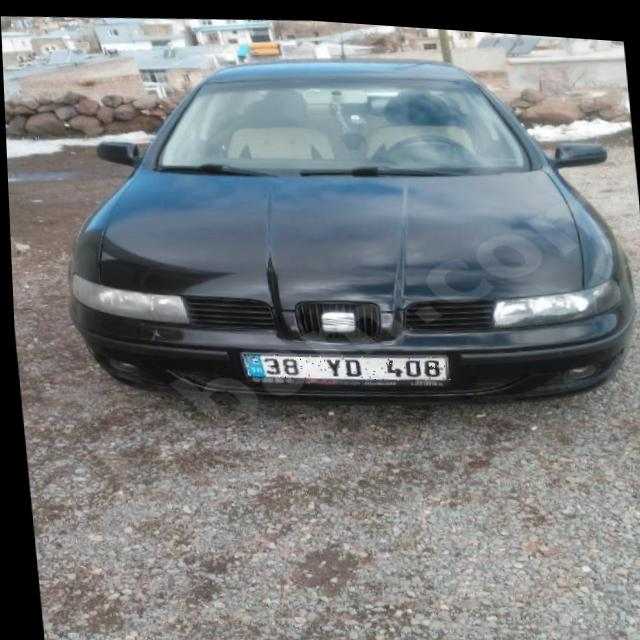license_plate: (239, 340, 448, 386)
